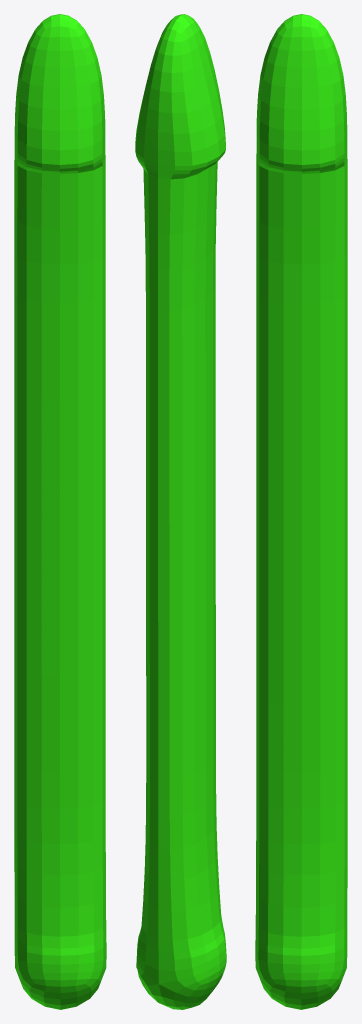
The model's file is clock-arm.obj.
3 views of the same model, side by side, from view 1: azimuth 90°, elevation 25°; view 2: azimuth 150°, elevation 25°; view 3: azimuth 270°, elevation 25° (orthographic).
Parts seen in each view (by area): view 1: Cube_Cube.001; view 2: Cube_Cube.001; view 3: Cube_Cube.001.
Part boxes in pixels (<box>): Cube_Cube.001: <box>14,14,106,1009</box>; Cube_Cube.001: <box>135,14,226,1009</box>; Cube_Cube.001: <box>255,14,347,1009</box>.
Size of the model in its own units: 0.1783 by 2.17 by 0.1824.
1 material, 1 textured.
